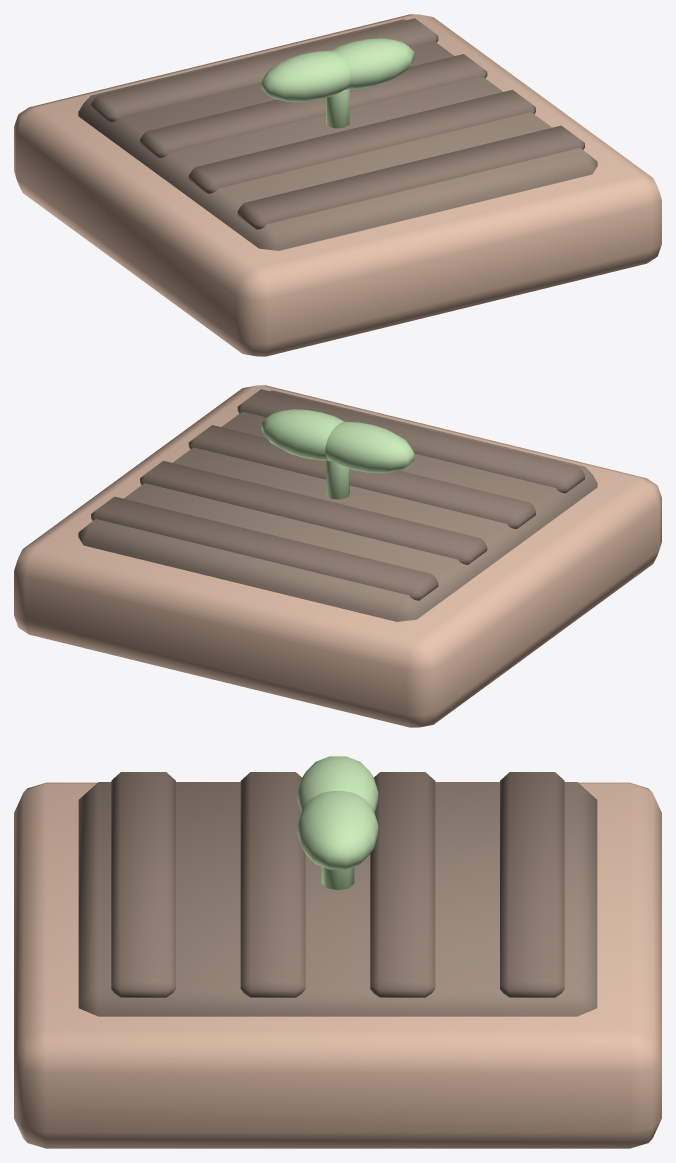
The model's file is plot_sprout.glb.
The picture shows the model from 3 angles, top to bottom: view 1: azimuth 30°, elevation 25°; view 2: azimuth 150°, elevation 25°; view 3: azimuth 270°, elevation 25°; orthographic projection. The views are drawn at different scales.
Visible parts, largest first — view 1: plot_sprout; view 2: plot_sprout; view 3: plot_sprout.
Part boxes in pixels (bbox=[...]): plot_sprout: bbox=[14, 14, 661, 356]; plot_sprout: bbox=[14, 385, 661, 727]; plot_sprout: bbox=[14, 756, 661, 1148].
Size of the model in its own units: 1 by 0.405 by 1.
